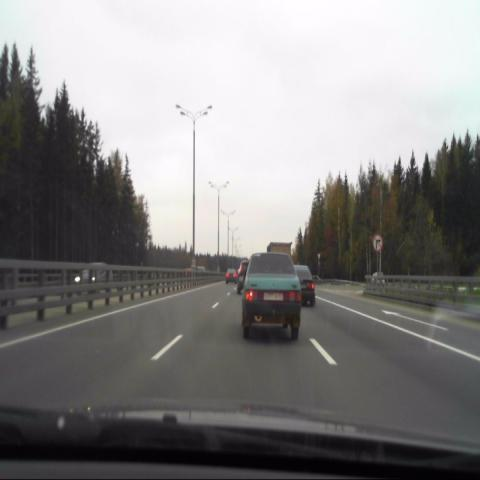3_18: (372, 234, 383, 251)
